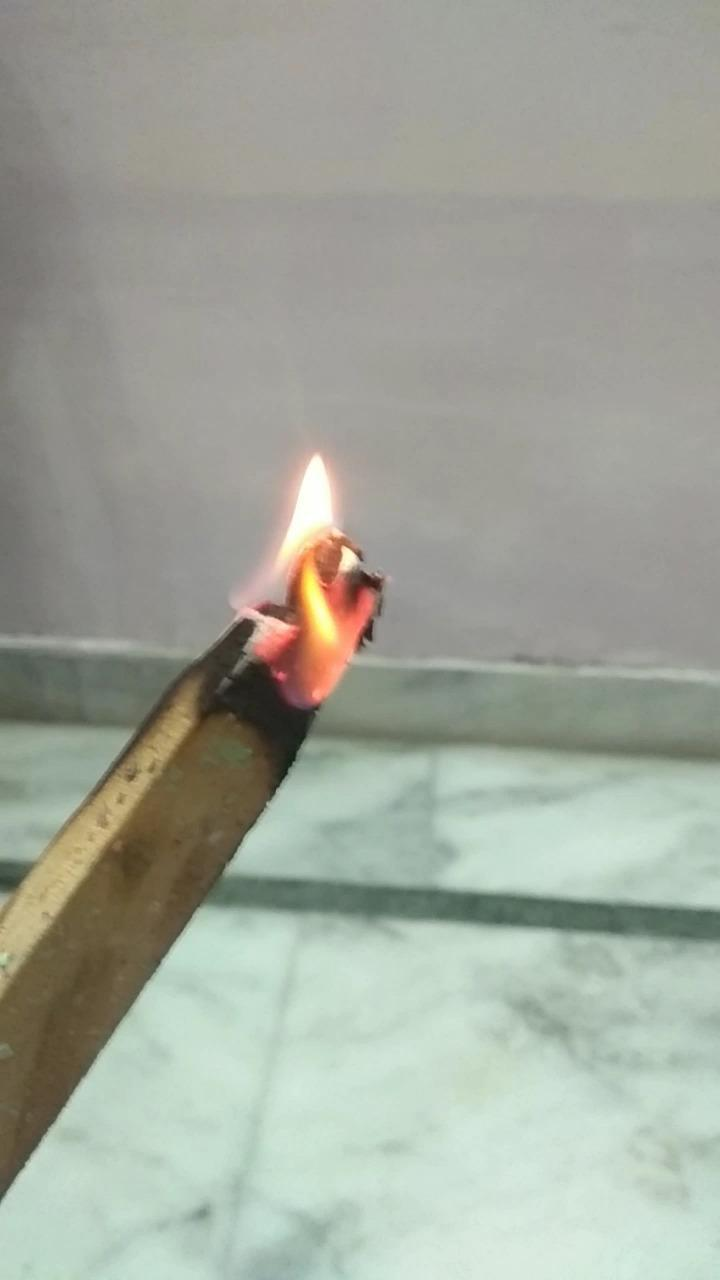fire: (234, 436, 393, 716)
